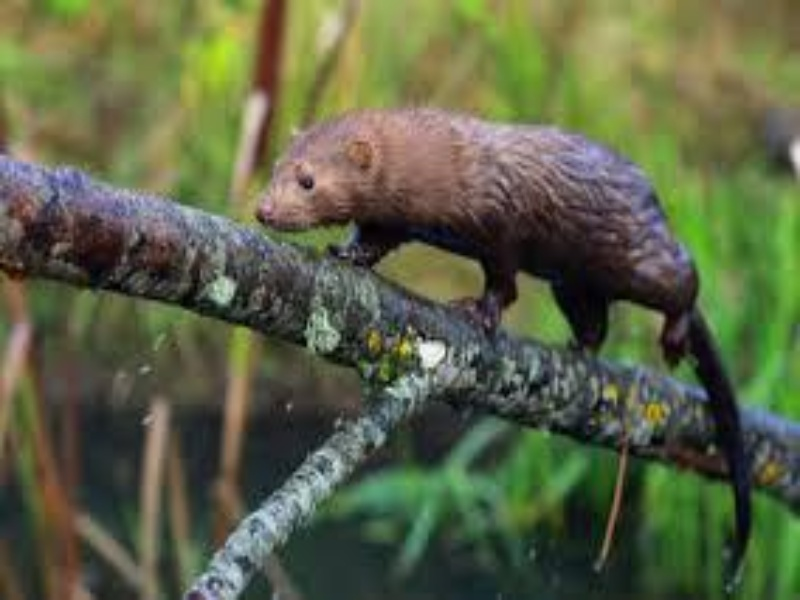minkish: (251, 106, 758, 583)
